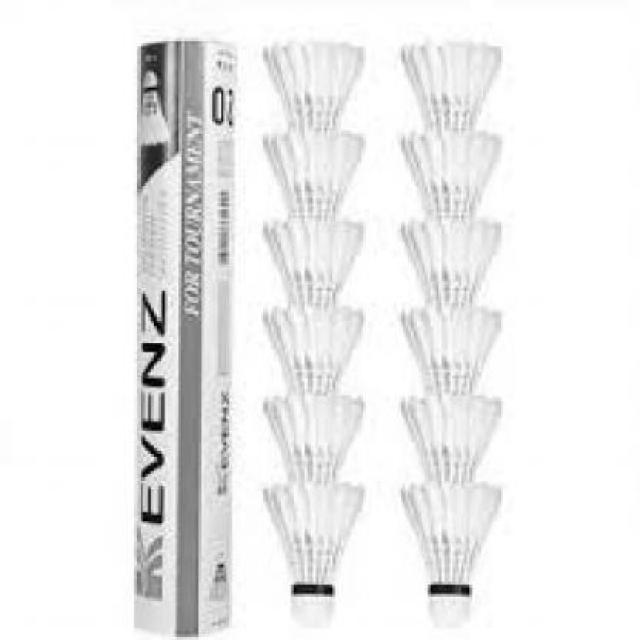Shuttlecock: (397, 480, 505, 631)
